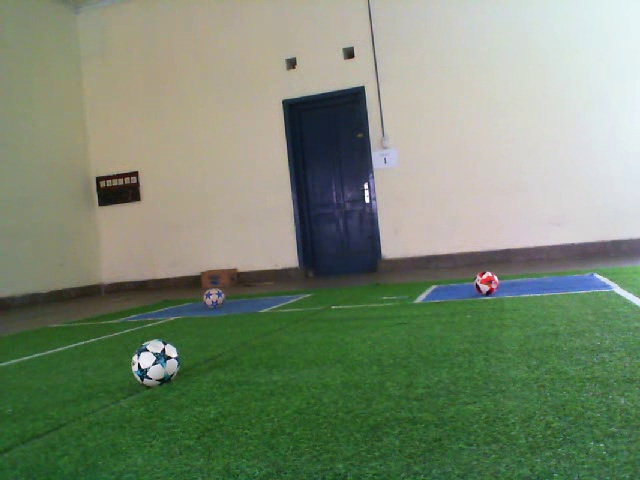ball: (128, 337, 183, 390), (471, 268, 501, 299), (200, 286, 227, 311)
